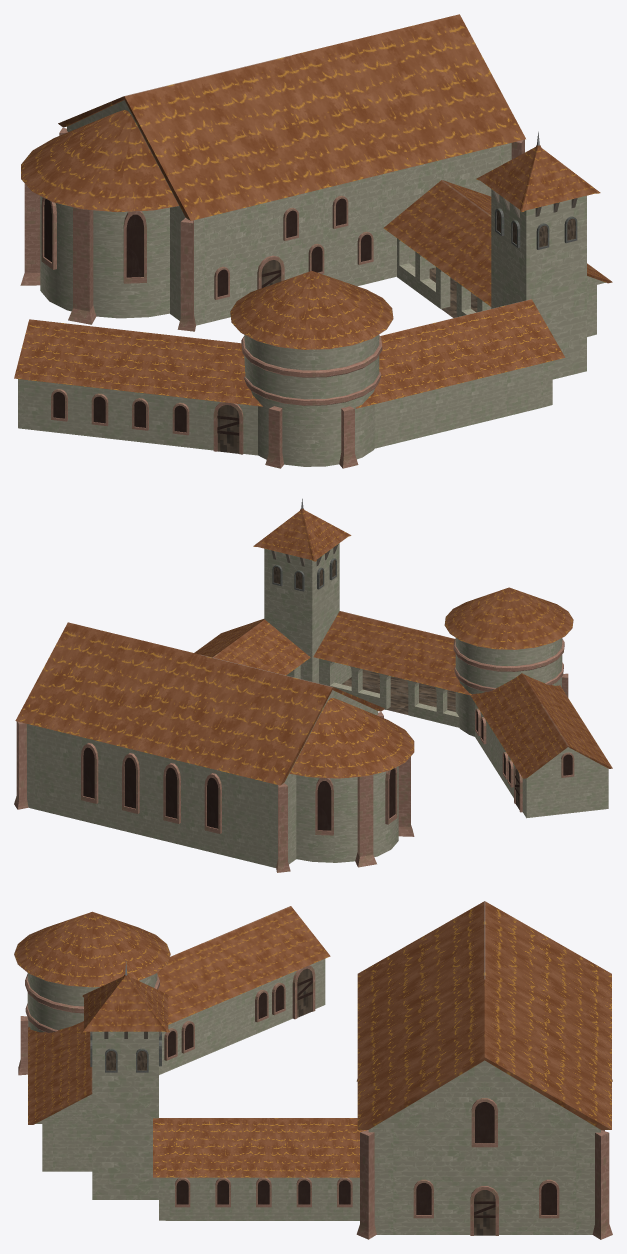
The model's file is SM_Building_002.fbx.
3 renders of one model, top to bottom at view 1: azimuth 30°, elevation 25°; view 2: azimuth 150°, elevation 25°; view 3: azimuth 270°, elevation 25°, orthographic. The views are drawn at different scales.
Parts seen in each view (by area): view 1: polySurface595; view 2: polySurface595; view 3: polySurface595.
Boxes of the visible parts, bbox=[...] form: polySurface595: bbox=[14, 14, 612, 468]; polySurface595: bbox=[14, 498, 612, 872]; polySurface595: bbox=[14, 901, 612, 1239].
Size of the model in its own units: 1954 by 764 by 1844.
